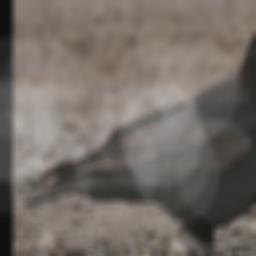Crow: (21, 20, 256, 256)
